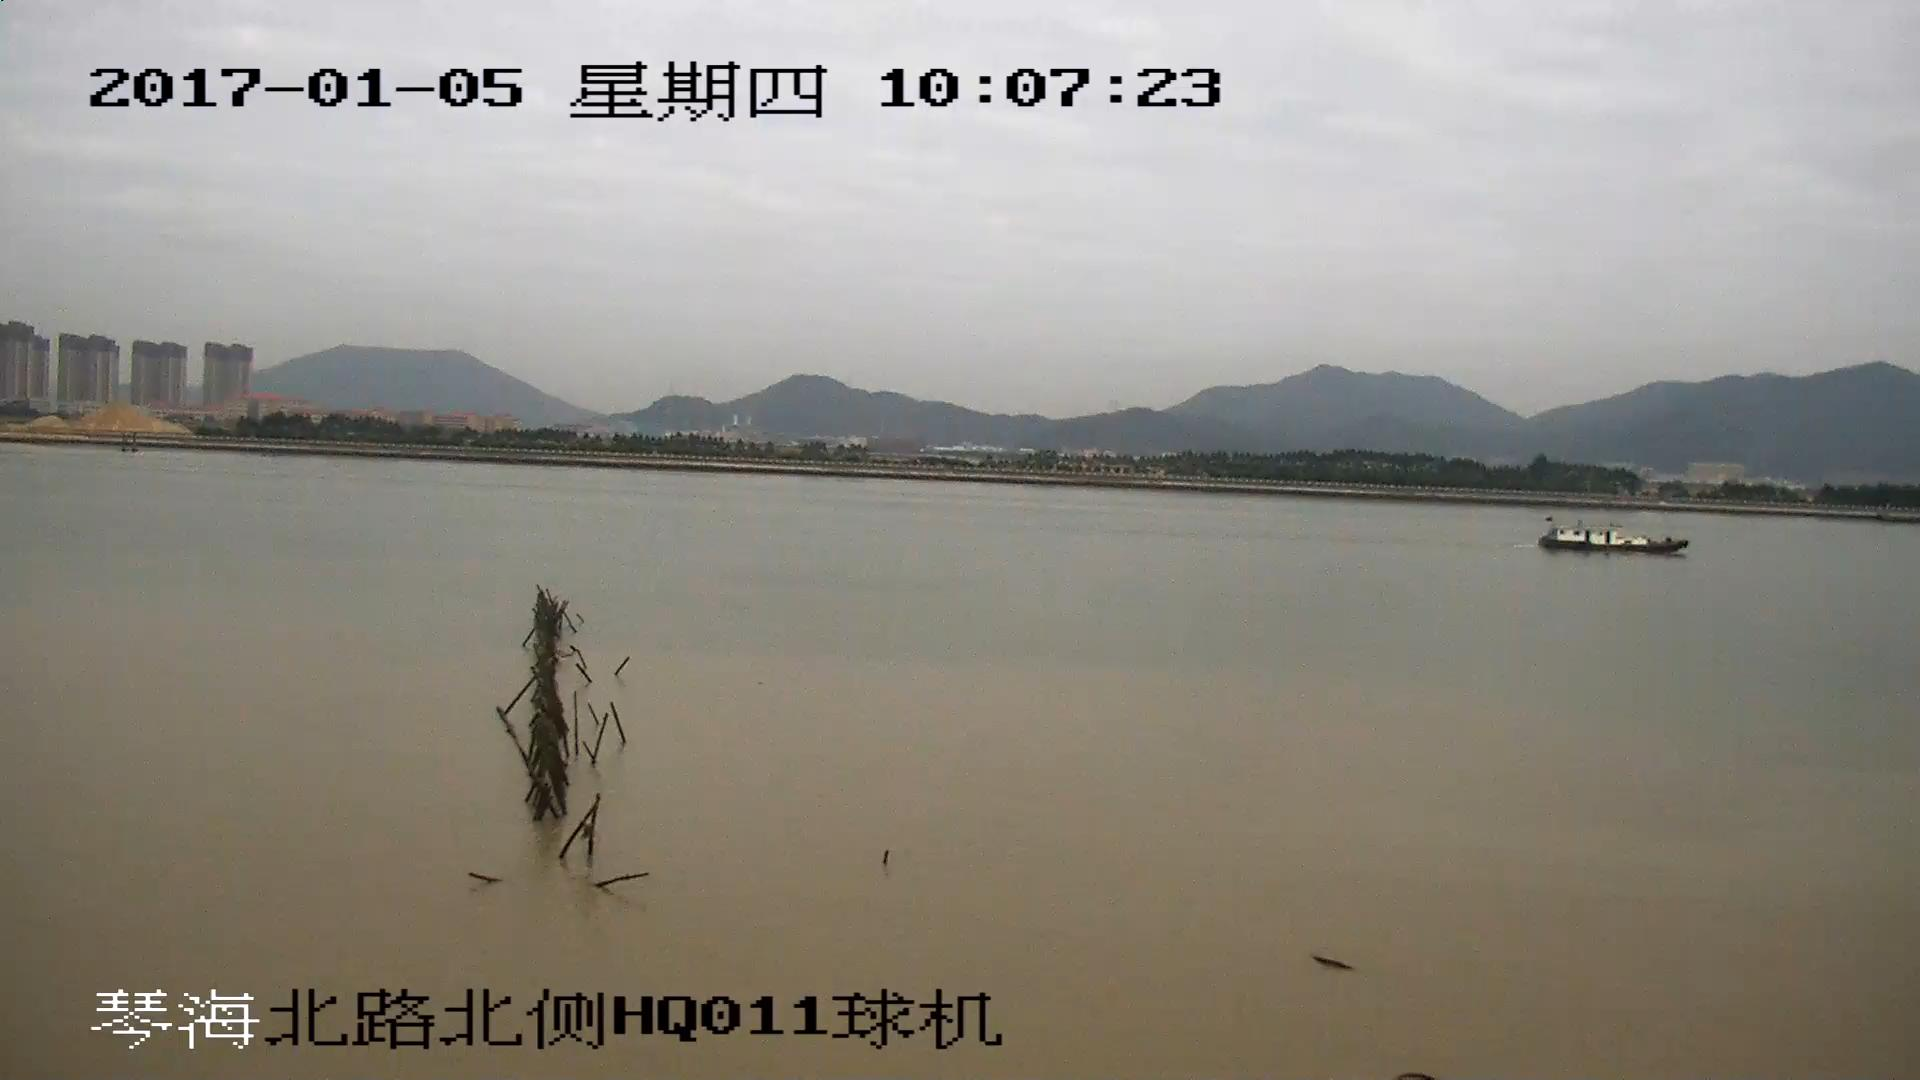fishing boat: (1538, 515, 1695, 558)
